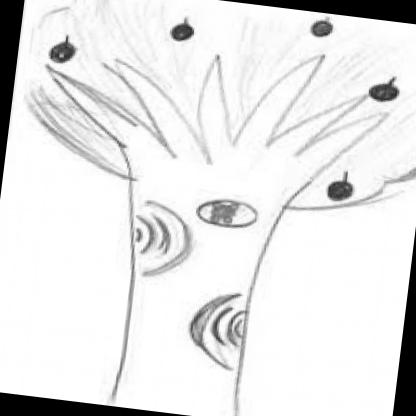apple: (362, 70, 404, 106), (46, 36, 84, 67), (327, 173, 360, 203), (167, 16, 200, 45), (309, 18, 338, 42)
branch_sharp: (38, 18, 403, 180)
crown_mushroom: (8, 0, 416, 221)
knot: (185, 282, 266, 376), (122, 194, 200, 284)
trunk_straight: (101, 194, 288, 393)
